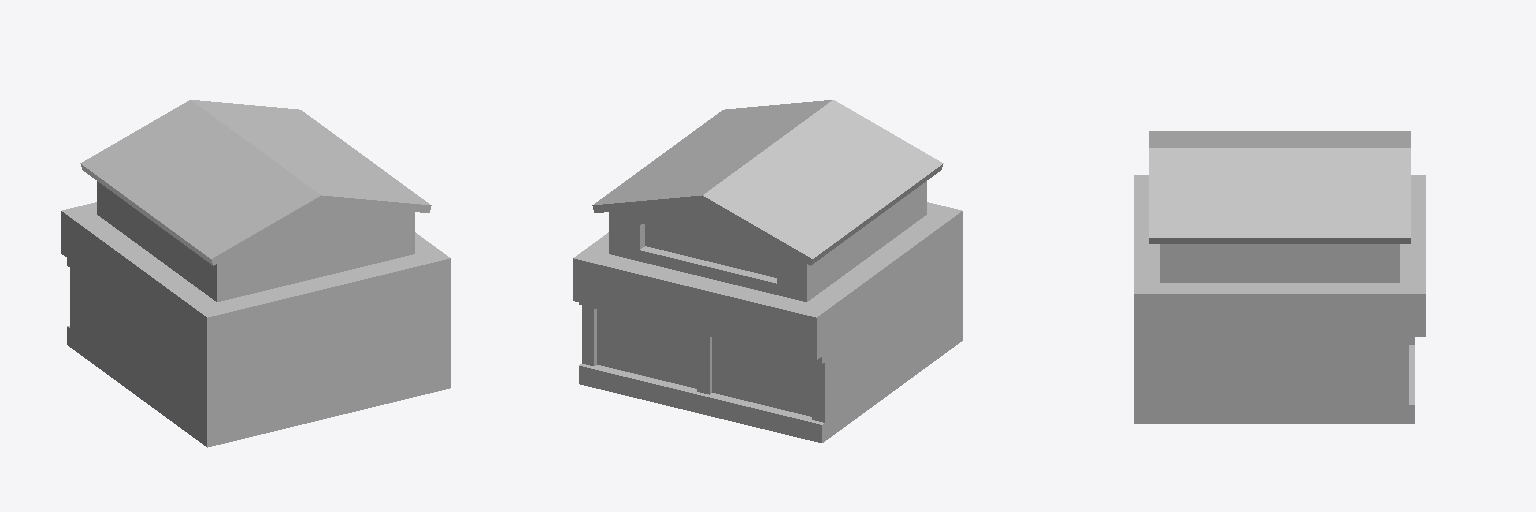
File: pitsOfficeRoof_exclusive.obj
3 views of the same model, side by side, from view 1: azimuth 30°, elevation 25°; view 2: azimuth 150°, elevation 25°; view 3: azimuth 270°, elevation 25° (orthographic).
Parts seen in each view (by area): view 1: pitsOfficeRoof_exclusive; view 2: pitsOfficeRoof_exclusive; view 3: pitsOfficeRoof_exclusive.
Boxes of the visible parts, box(x1,y1,x2,y2) form: pitsOfficeRoof_exclusive: box(61, 100, 450, 447); pitsOfficeRoof_exclusive: box(573, 100, 962, 442); pitsOfficeRoof_exclusive: box(1134, 131, 1425, 423).
Bounding box in the file's own units: 10 × 8.52 × 10.4.